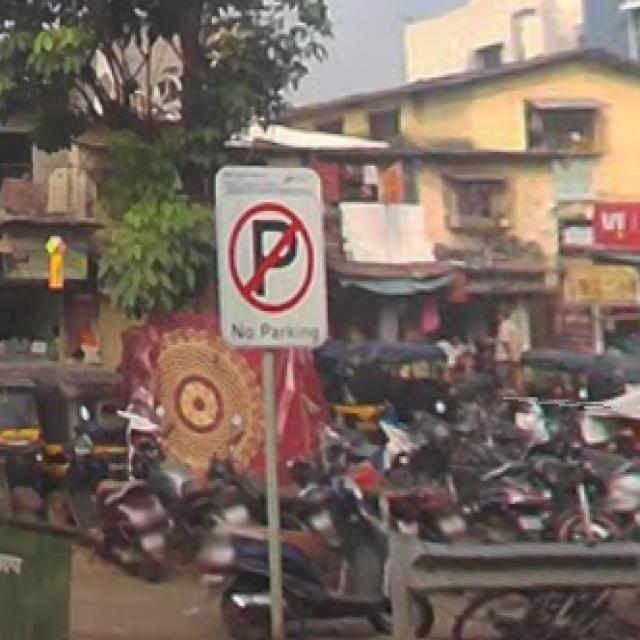no parking: (230, 201, 320, 315)
